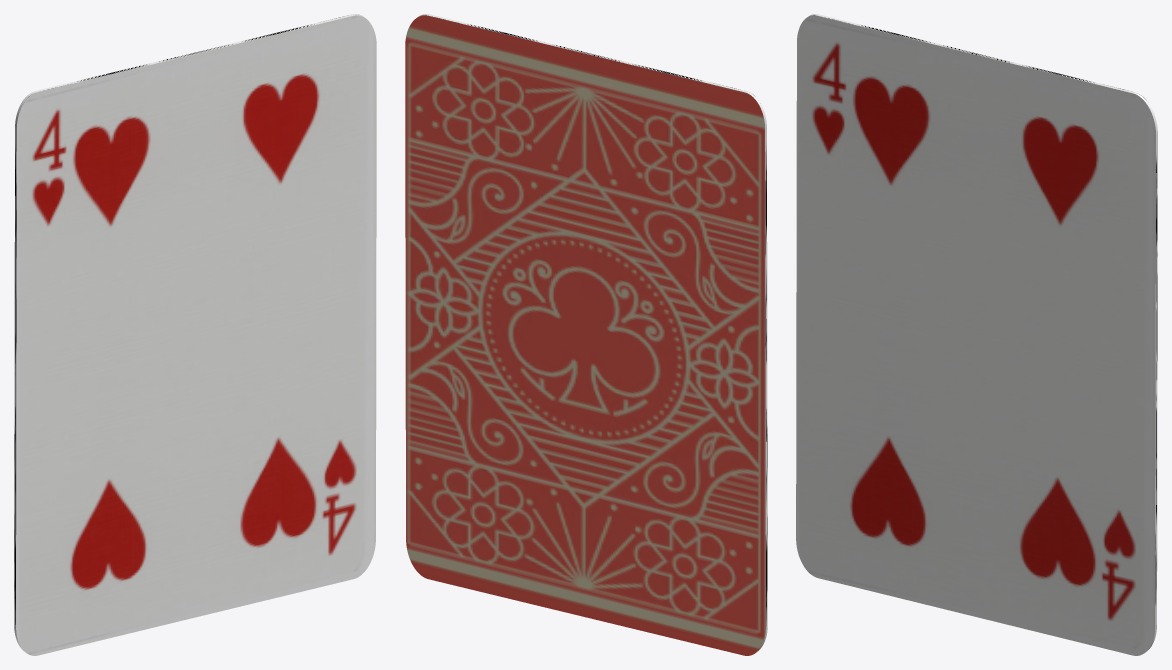
File: 4corazones.glb
3 views of the same model, side by side, from view 1: azimuth 30°, elevation 25°; view 2: azimuth 150°, elevation 25°; view 3: azimuth 330°, elevation 25° (orthographic).
Parts seen in each view (by area): view 1: Cubo.030; view 2: Cubo.030; view 3: Cubo.030.
Part boxes in pixels (x1,y1,x2,y2): Cubo.030: (14,14,376,655); Cubo.030: (405,14,767,655); Cubo.030: (796,14,1157,655).
Bounding box in the file's own units: 7.36 × 11 × 0.065.
3 materials, 3 textured.
